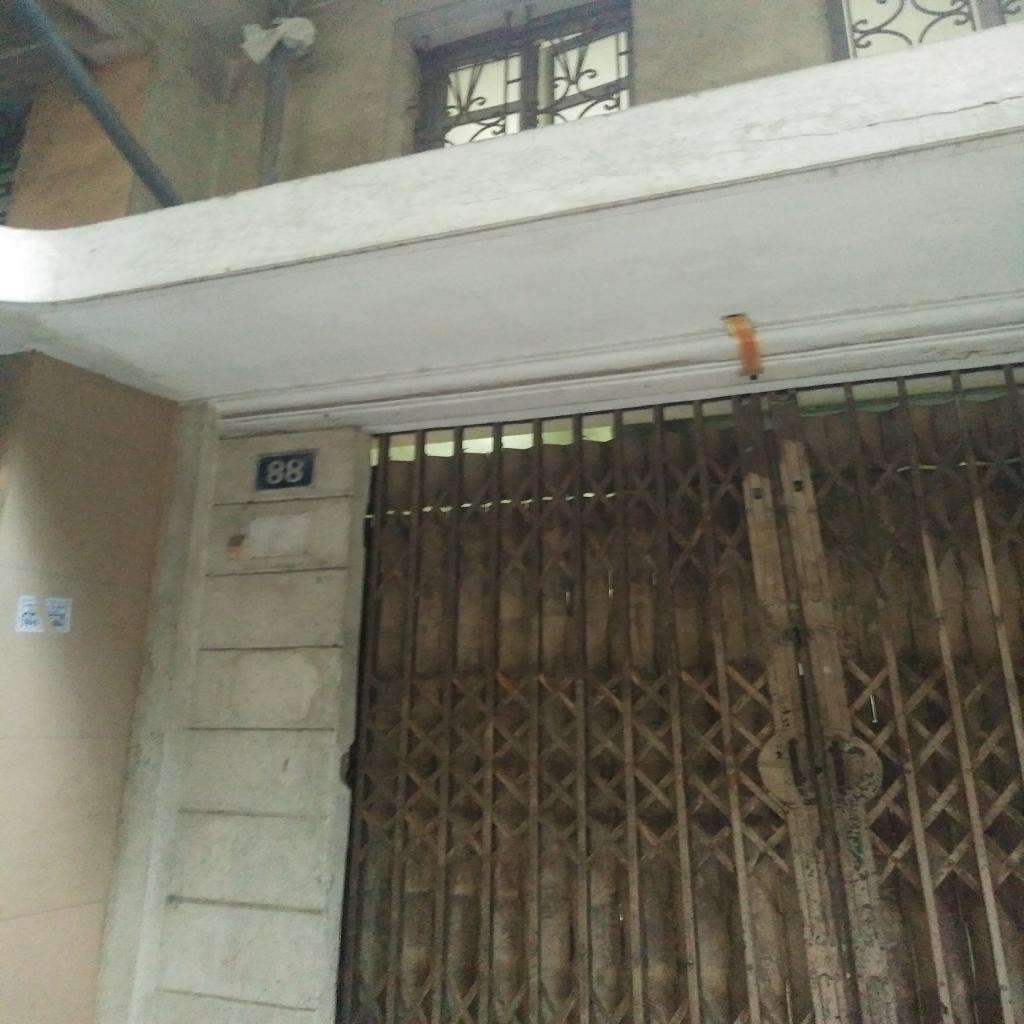text: (254, 453, 315, 491)
